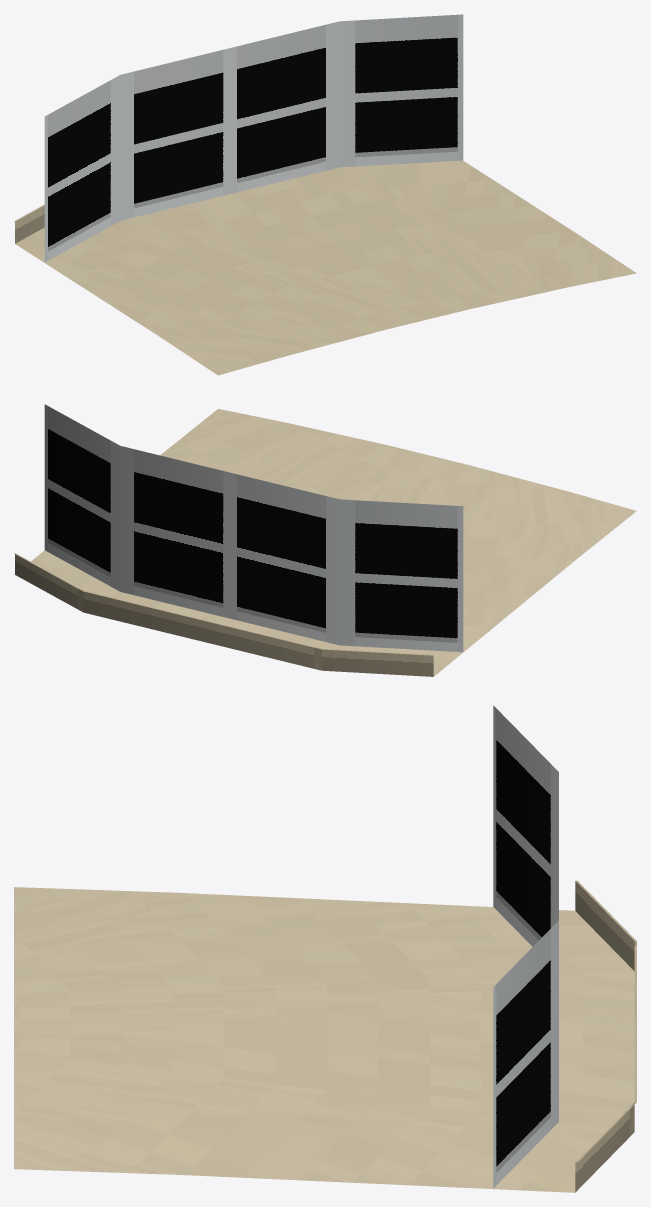
File: tank_small_roof_1_0.obj
The picture shows the model from 3 angles, top to bottom: view 1: azimuth 30°, elevation 25°; view 2: azimuth 150°, elevation 25°; view 3: azimuth 270°, elevation 25°; orthographic projection. The views are drawn at different scales.
Visible parts, largest first — view 1: tank_small_roof_1_0; view 2: tank_small_roof_1_0; view 3: tank_small_roof_1_0.
Boxes of the visible parts, x1,y1,x2,y2 form: tank_small_roof_1_0: [14, 14, 636, 375]; tank_small_roof_1_0: [14, 404, 636, 676]; tank_small_roof_1_0: [14, 705, 636, 1192].
Size of the model in its own units: 3 by 1.02 by 2.8.
